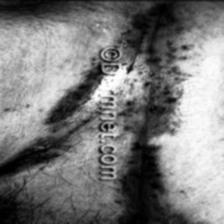Toxin: (123, 5, 189, 201)
